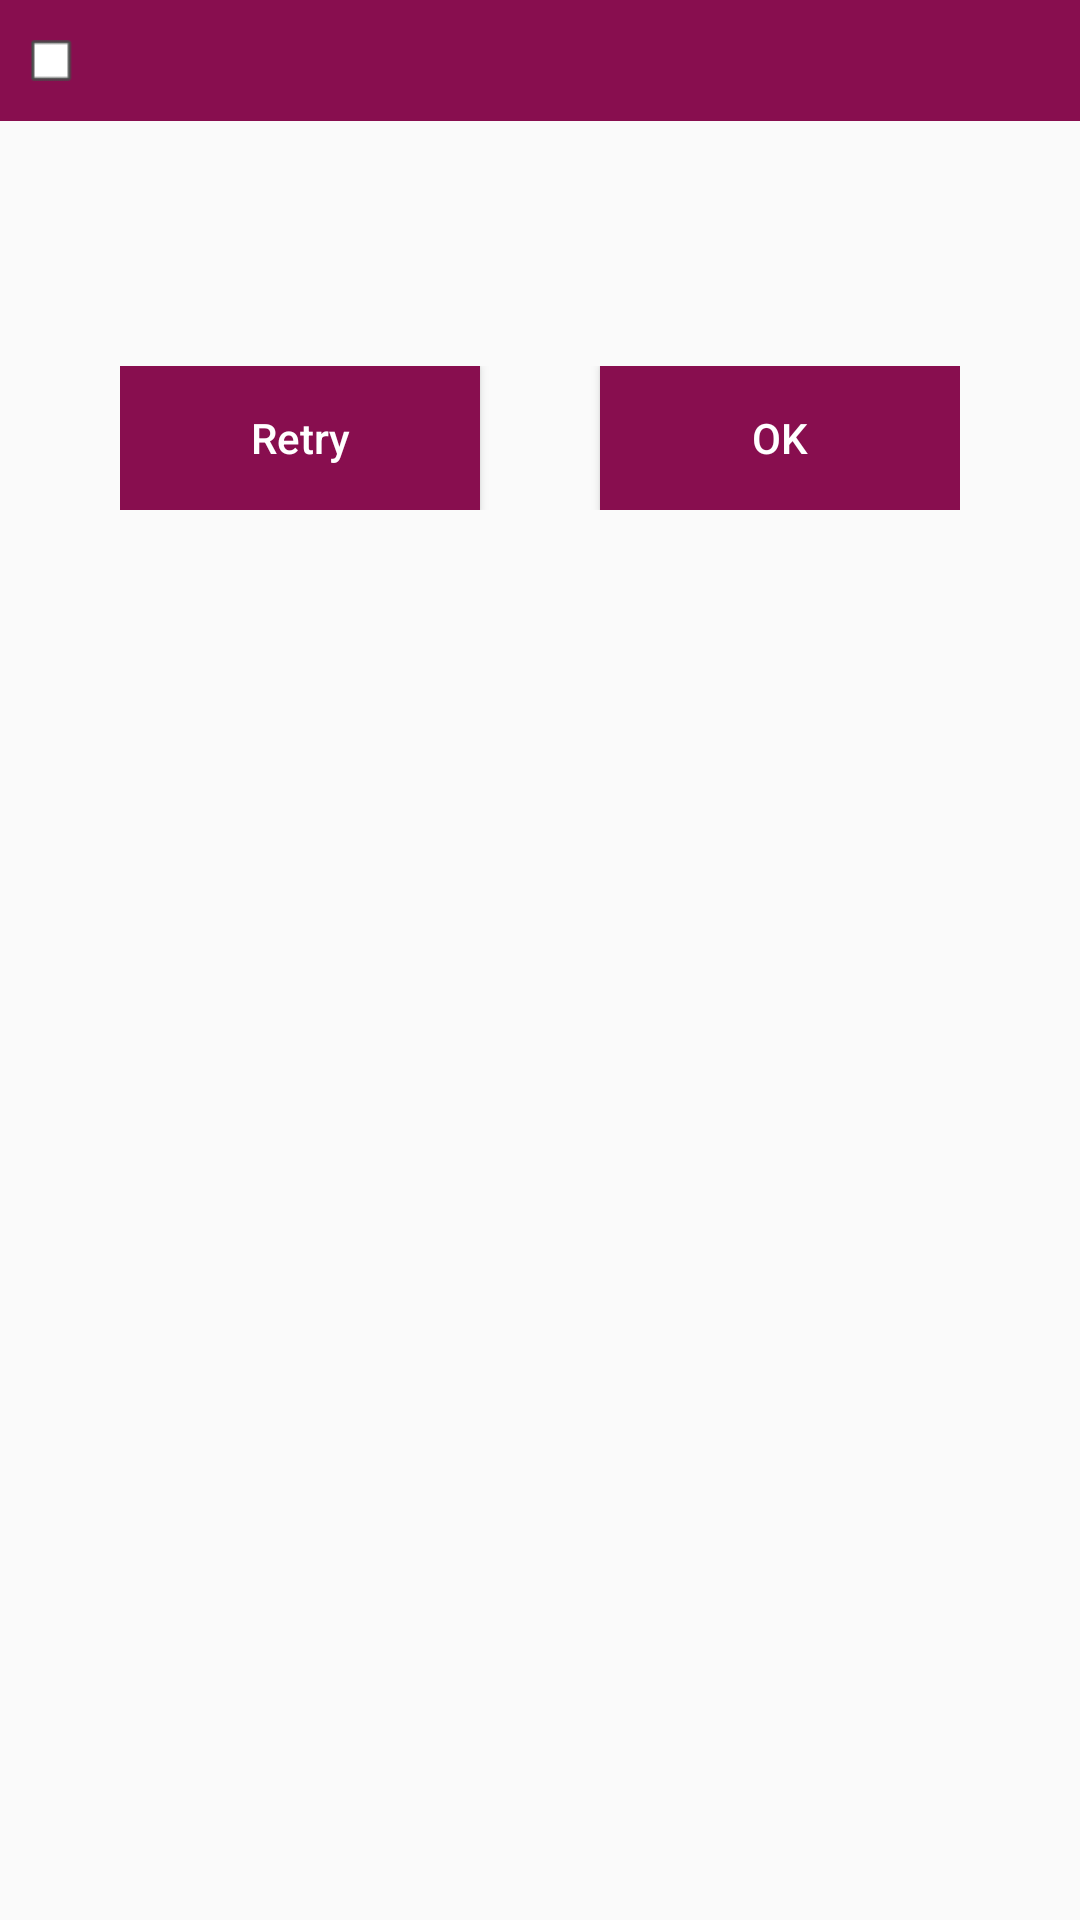

Point at icon controls on the screen. Image size 1080*1920, points as (x,y).
box uncheck: (51,60)
